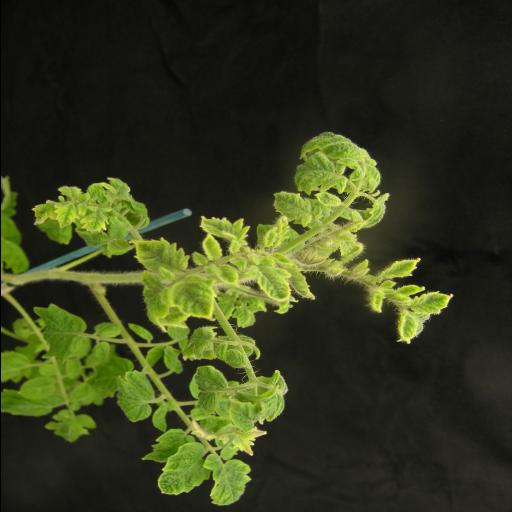disease_tomato: (258, 130, 390, 306), (30, 178, 150, 258), (292, 132, 382, 180), (198, 452, 256, 507), (157, 441, 209, 495), (167, 275, 217, 323), (294, 152, 350, 194), (124, 236, 188, 272), (268, 191, 316, 228), (252, 260, 292, 302), (198, 212, 246, 244), (406, 288, 454, 314), (24, 200, 66, 228), (374, 258, 420, 282), (394, 312, 422, 348), (84, 204, 114, 234), (57, 202, 78, 232)
